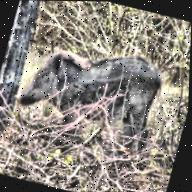boar: (8, 31, 175, 172)
